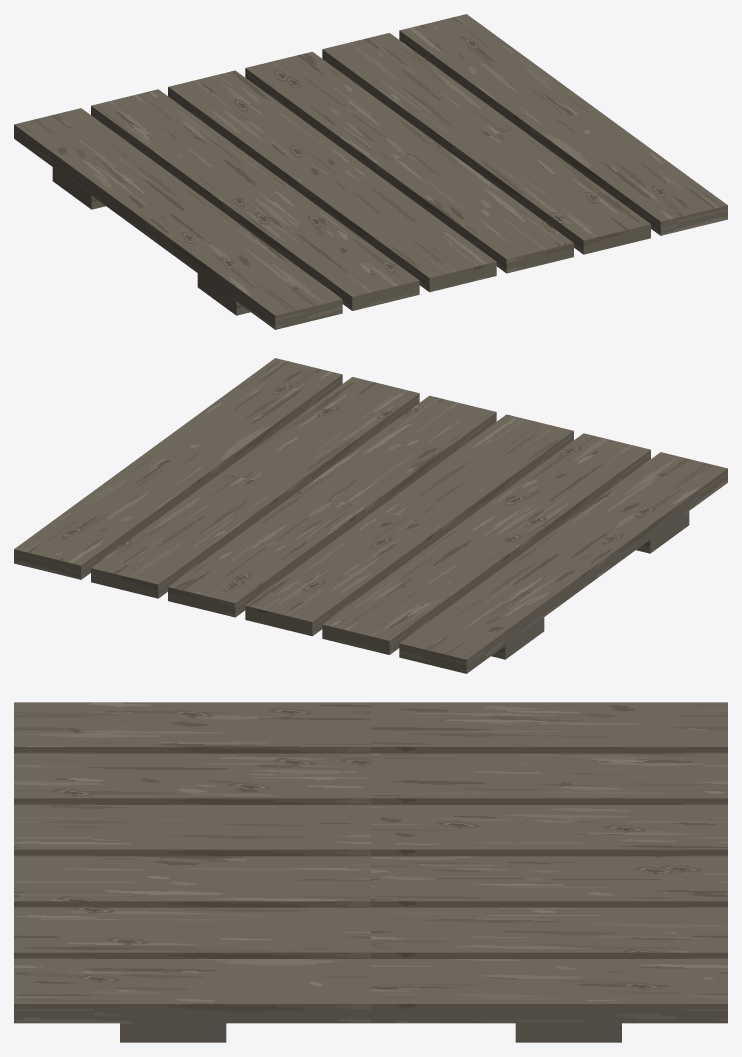
File: planks.gltf
3 renders of one model, top to bottom at view 1: azimuth 30°, elevation 25°; view 2: azimuth 150°, elevation 25°; view 3: azimuth 270°, elevation 25°, orthographic. The views are drawn at different scales.
Visible parts, largest first — view 1: planks; view 2: planks; view 3: planks.
Part boxes in pixels (<box>): planks: <box>14,14,727,329</box>; planks: <box>14,358,727,673</box>; planks: <box>14,702,727,1042</box>.
Bounding box in the file's own units: 1 × 0.06 × 1.
1 material, 1 textured.
